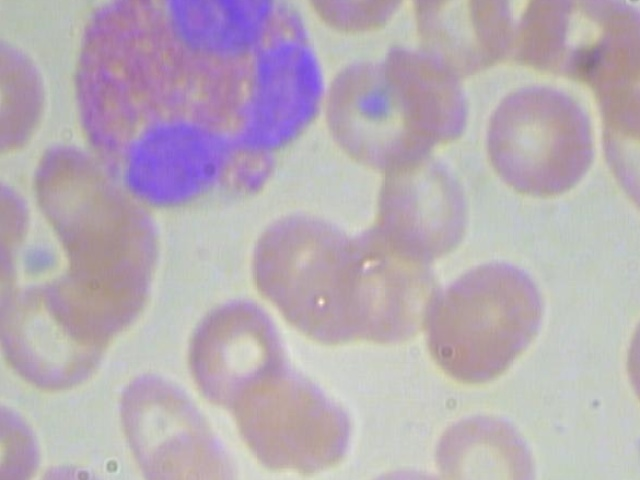Platelets: (19, 241, 63, 277), (626, 424, 640, 470)
RBC: (433, 255, 564, 367), (318, 47, 439, 168), (483, 76, 601, 199), (108, 370, 218, 480), (186, 289, 286, 406), (421, 278, 521, 389), (435, 401, 542, 480), (142, 425, 255, 480), (587, 17, 640, 127), (598, 107, 640, 233)
WBC: (59, 0, 340, 216)
